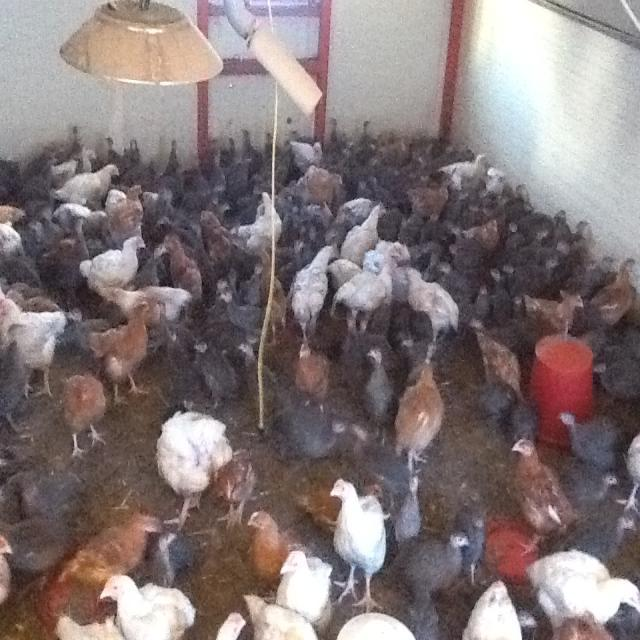poussin: (54, 512, 154, 612), (526, 546, 640, 630), (490, 432, 570, 544), (158, 403, 238, 514), (325, 462, 385, 605), (90, 298, 154, 398), (3, 293, 62, 397), (394, 529, 470, 604), (106, 574, 192, 640), (206, 443, 262, 539), (242, 583, 335, 640), (468, 328, 524, 418), (336, 254, 396, 338), (394, 366, 437, 480), (399, 265, 460, 343), (61, 364, 110, 461), (288, 477, 388, 524), (448, 583, 526, 640), (293, 242, 336, 340), (270, 412, 350, 464), (279, 541, 330, 619), (152, 233, 207, 304), (564, 408, 622, 474), (246, 504, 288, 593), (426, 238, 478, 304), (290, 336, 330, 418), (453, 492, 492, 575), (390, 474, 430, 554), (590, 347, 640, 411), (596, 254, 638, 330), (109, 286, 190, 324), (358, 348, 392, 438), (187, 338, 228, 412), (82, 238, 138, 292), (530, 285, 586, 338), (340, 204, 388, 264), (48, 605, 130, 640), (58, 160, 121, 205), (242, 192, 282, 258), (104, 181, 146, 241), (219, 288, 268, 339), (200, 210, 242, 268), (570, 474, 622, 520), (437, 150, 490, 195), (240, 342, 276, 408), (143, 528, 179, 590), (57, 201, 106, 242), (326, 242, 367, 289), (296, 165, 342, 206), (408, 183, 450, 226), (207, 272, 236, 332), (457, 218, 502, 255), (136, 236, 175, 278), (487, 260, 515, 318), (358, 159, 404, 193), (472, 162, 510, 202), (204, 141, 230, 198), (290, 134, 325, 174), (354, 113, 380, 166), (147, 187, 178, 230), (240, 256, 264, 311), (120, 138, 148, 182), (210, 608, 248, 640), (369, 242, 422, 264), (510, 183, 538, 224), (386, 130, 416, 168), (340, 192, 374, 224), (162, 136, 184, 182), (0, 534, 14, 606), (0, 222, 25, 262), (554, 230, 581, 265), (411, 136, 438, 170), (535, 254, 567, 282), (222, 128, 242, 172), (102, 132, 124, 170), (502, 262, 528, 294), (546, 202, 573, 231), (0, 195, 27, 224), (242, 123, 257, 173), (476, 278, 494, 318), (67, 127, 87, 162), (504, 222, 524, 254), (528, 222, 547, 255), (572, 216, 593, 244), (262, 128, 274, 172), (330, 114, 340, 154)
